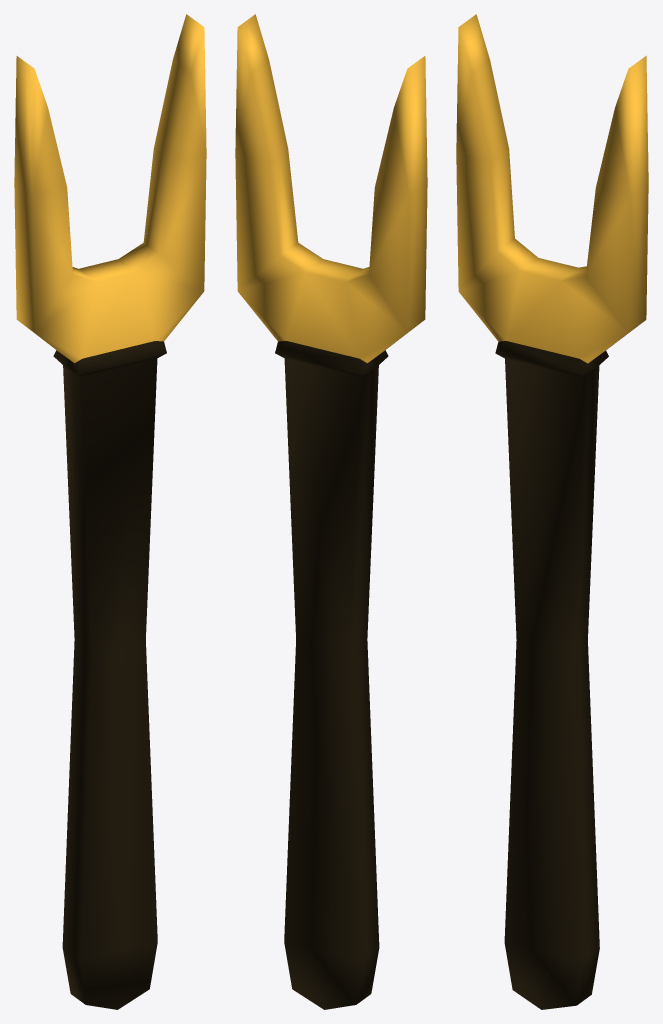
The model's file is FORK2EYE_02.FBX.
3 renders of one model, left to right at view 1: azimuth 30°, elevation 25°; view 2: azimuth 150°, elevation 25°; view 3: azimuth 330°, elevation 25°, orthographic.
Parts seen in each view (by area): view 1: Plane006; view 2: Plane006; view 3: Plane006.
Boxes of the visible parts, x1=… form: Plane006: x1=14, y1=14, x2=206, y2=1009; Plane006: x1=235, y1=14, x2=427, y2=1009; Plane006: x1=456, y1=14, x2=648, y2=1009.
Size of the model in its own units: 11.7 by 61.77 by 2.94.
